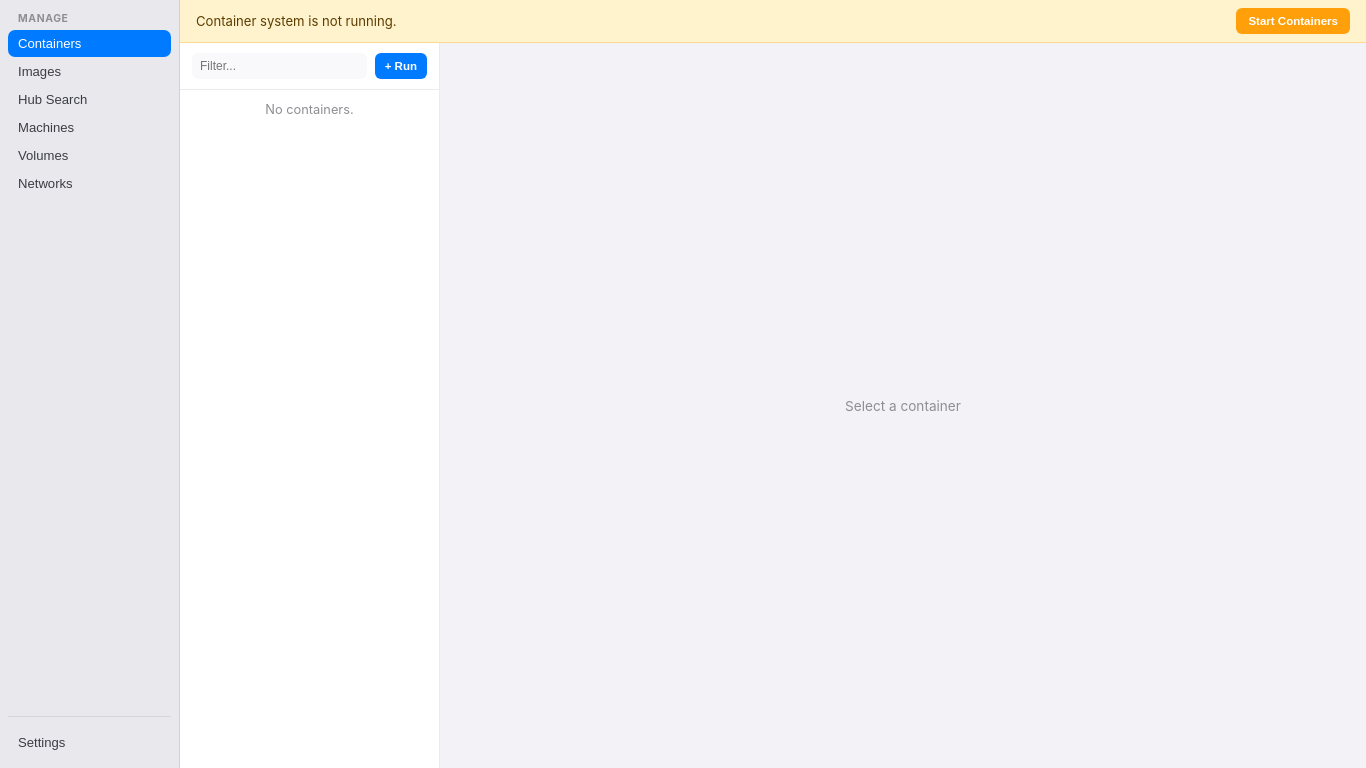
App system banner › surfaces the reason when starting the system fails
This screenshot has width=1366, height=768.
What coordinates should you click on to do the following:
click the button "Start Containers"
I would click on:
 (1293, 21)
Its box is [1236,8,1350,34].
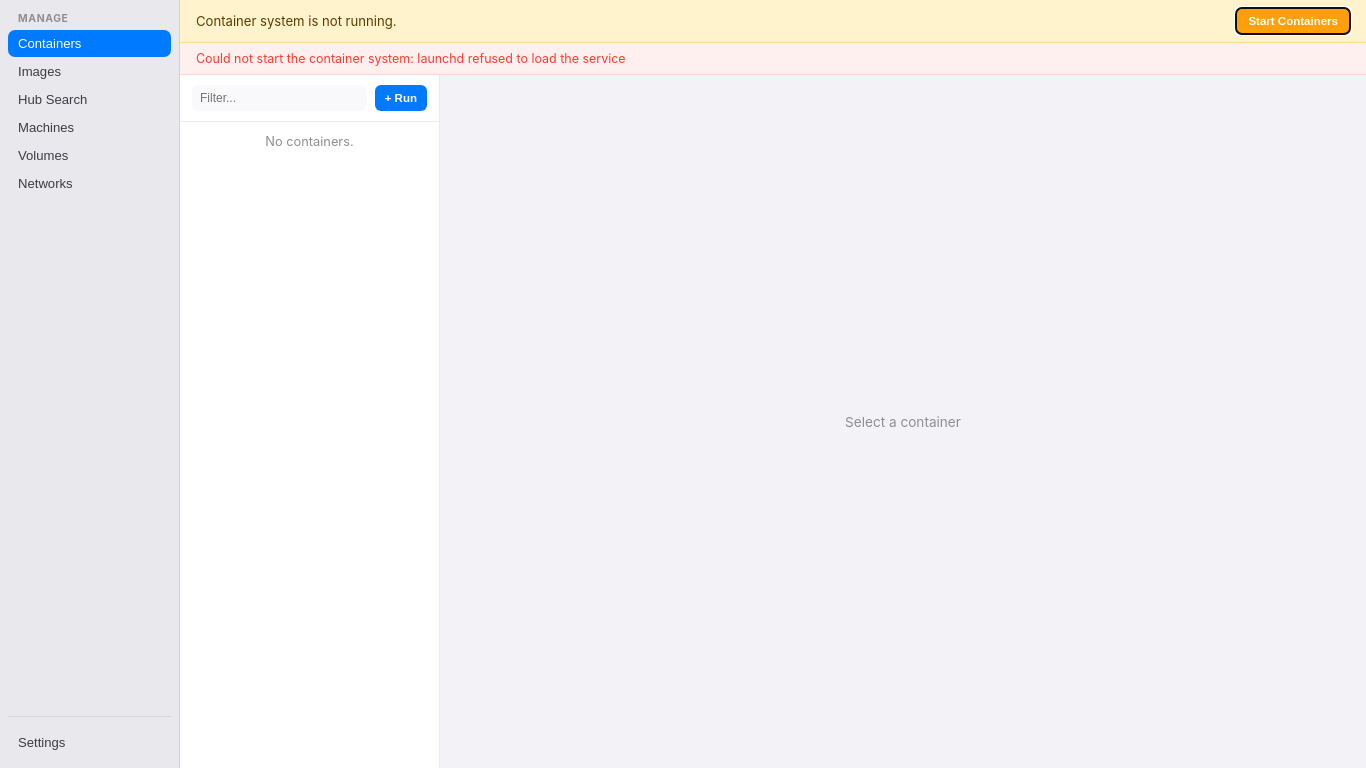
expect the text "Container system is not running." is shown: met, box [196,13,396,29]
expect the message shows "launchd refused to load the service": met, box [196,51,626,66]
